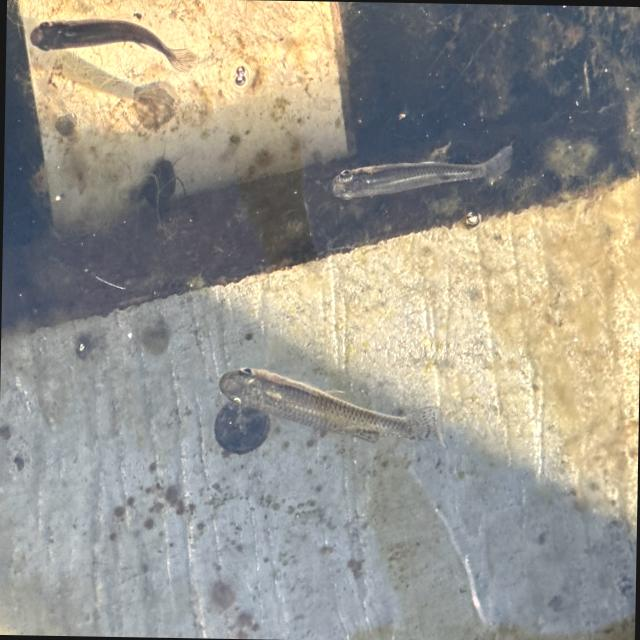Sivrisinek Baligi: (314, 122, 524, 239), (212, 363, 446, 455), (19, 11, 204, 87)
